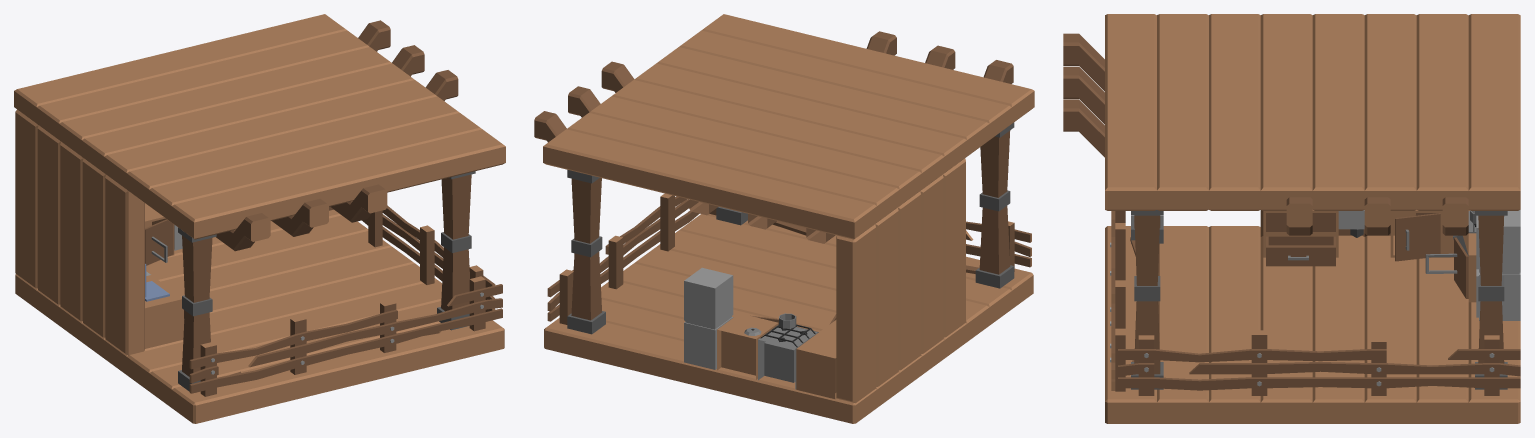
Rendered from Kitchen_Level_01_CornerLeft.fbx.
The picture shows the model from 3 angles, left to right: view 1: azimuth 30°, elevation 25°; view 2: azimuth 150°, elevation 25°; view 3: azimuth 270°, elevation 25°; orthographic projection. The views are drawn at different scales.
Visible parts, largest first — view 1: Kitchen_Level_01_CornerLeft; view 2: Kitchen_Level_01_CornerLeft; view 3: Kitchen_Level_01_CornerLeft.
Part boxes in pixels (x1=…): Kitchen_Level_01_CornerLeft: x1=14, y1=14, x2=505, y2=423; Kitchen_Level_01_CornerLeft: x1=534, y1=14, x2=1034, y2=423; Kitchen_Level_01_CornerLeft: x1=1063, y1=14, x2=1520, y2=423.
Size of the model in its own units: 880 by 505 by 880.
